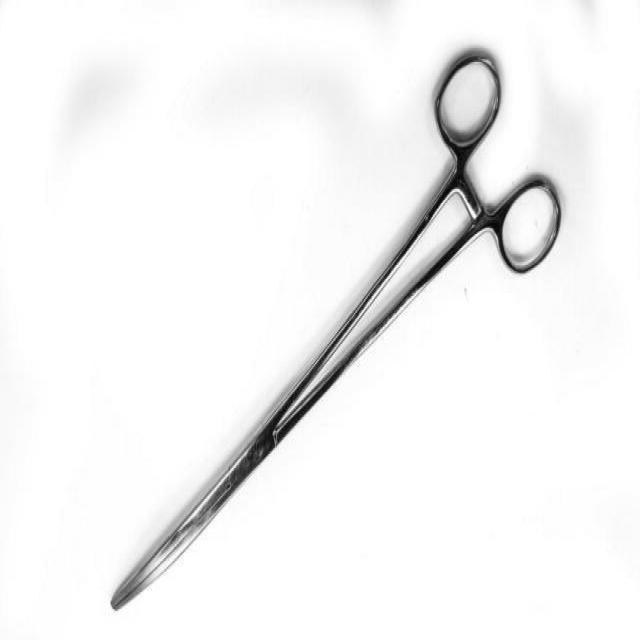Hemostat: (110, 44, 569, 616)
